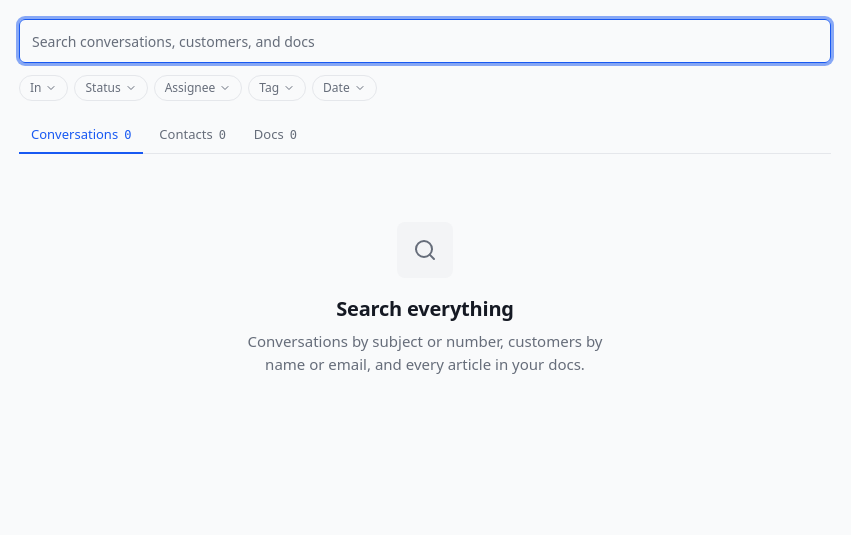
Test: global search › separates the three kinds of result and counts each
The image size is (851, 535).
Type "billing" into the field labelled "Search". click: {"x": 425, "y": 41}
box: [19, 19, 831, 63]
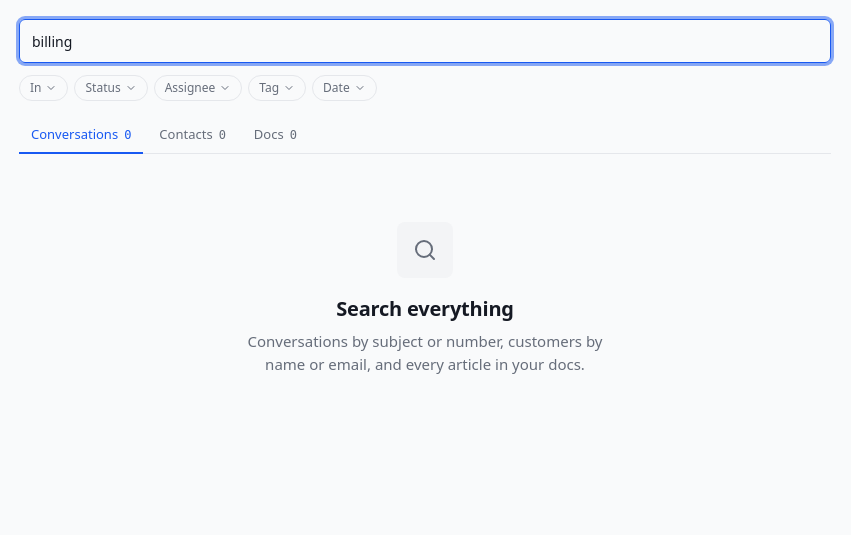
Expected: the tab "Conversations 0" is shown, [19, 117, 143, 153]
Click the tab "Docs 0". click: {"x": 275, "y": 135}
box: [242, 117, 309, 153]
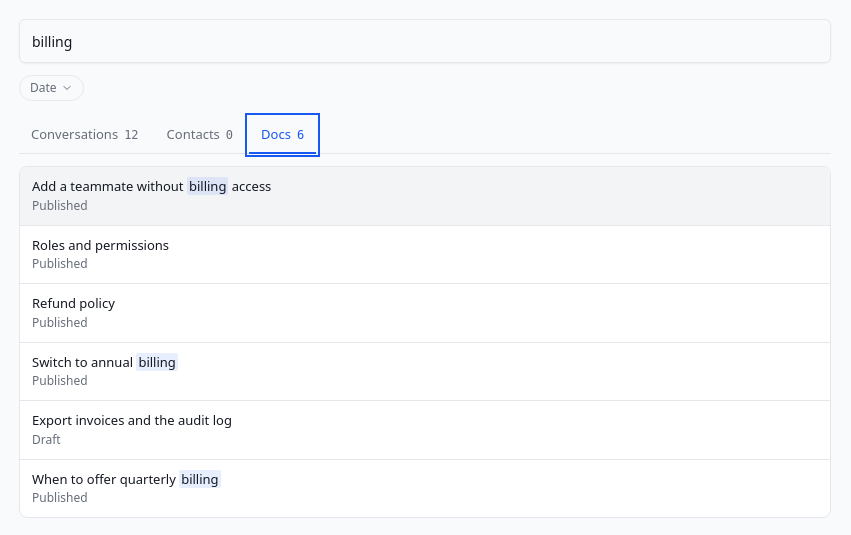
Now the option "Add a teammate without billing access Published" is shown, box [20, 167, 830, 226]
